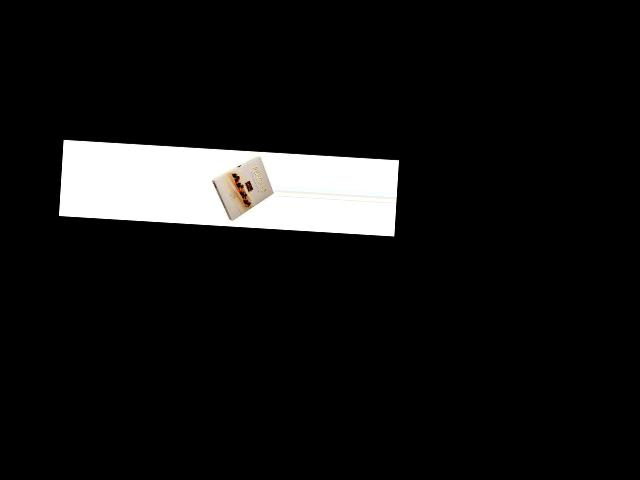chocolate: (208, 153, 274, 228)
